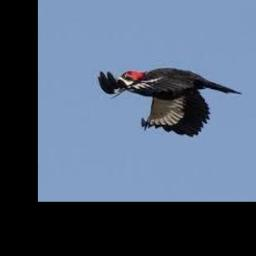Woodpecker: (99, 67, 243, 137)
